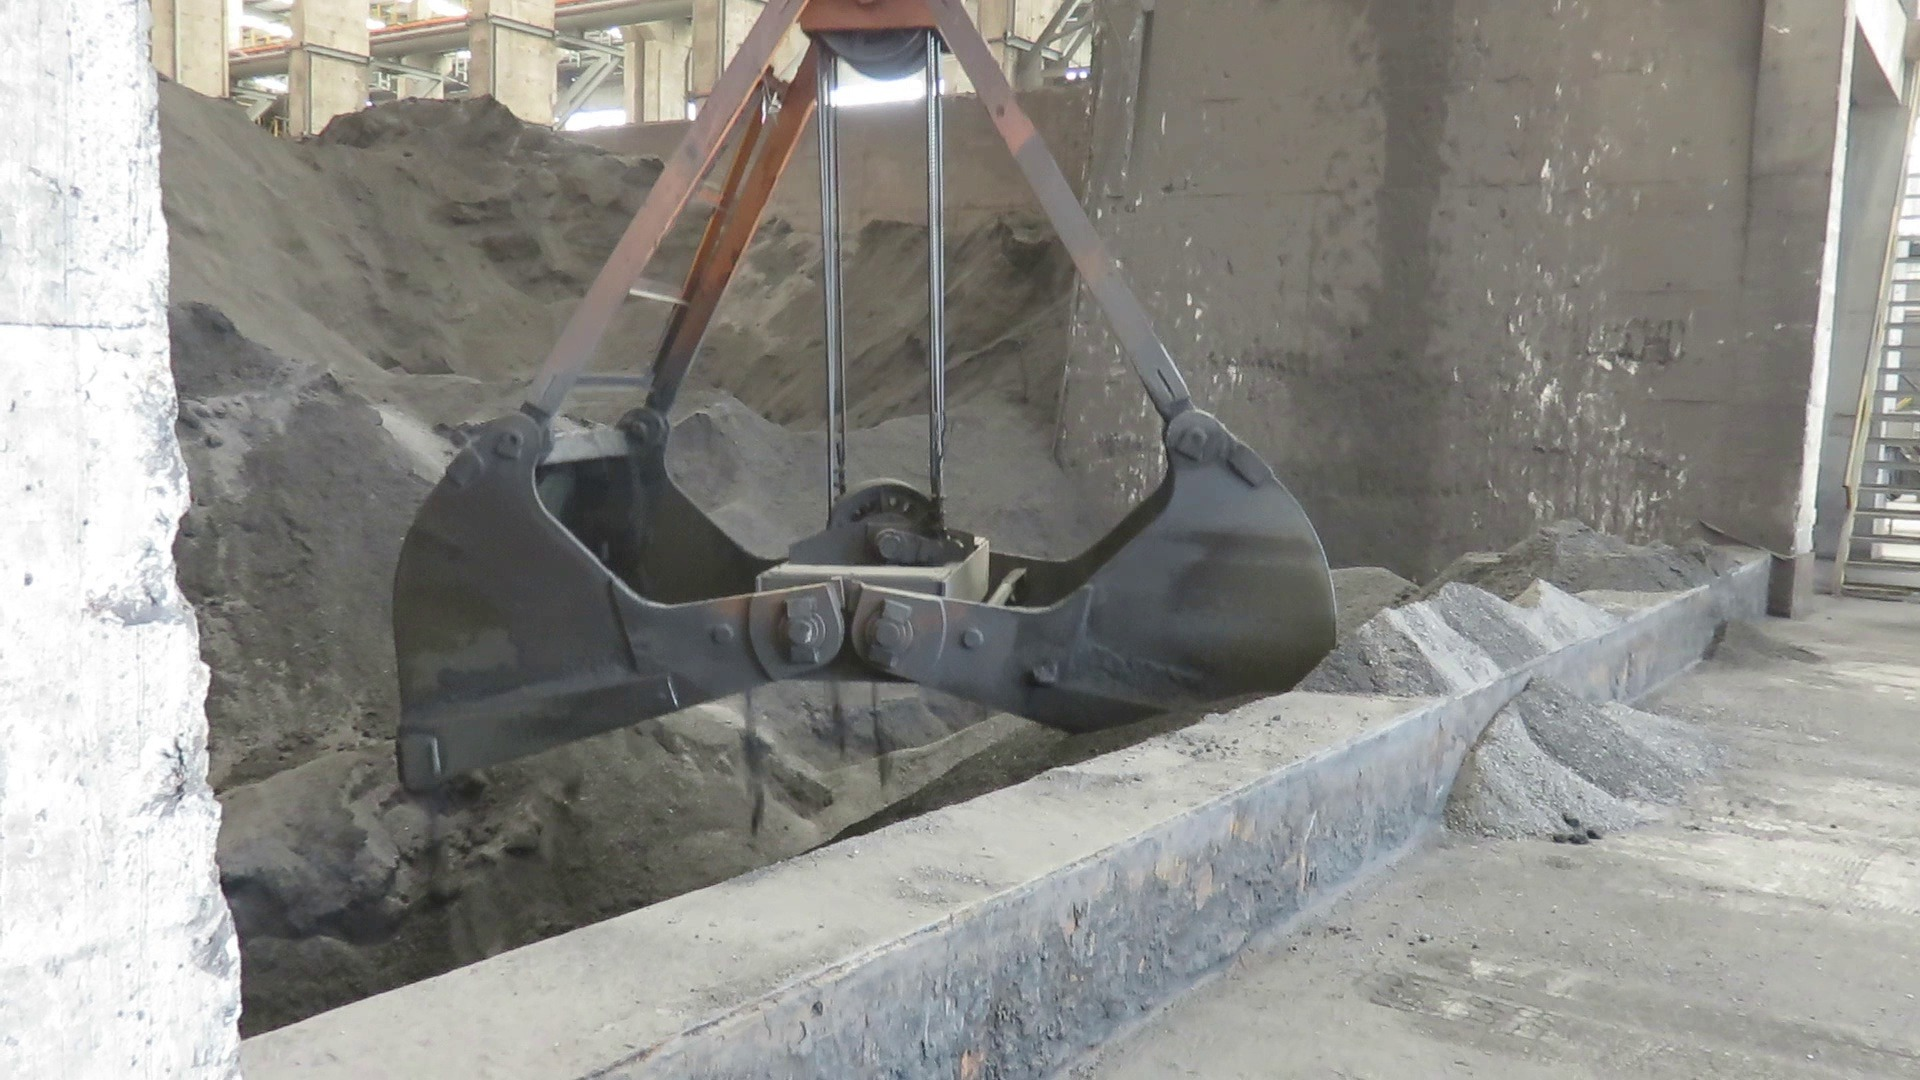grab: (385, 4, 1344, 803)
